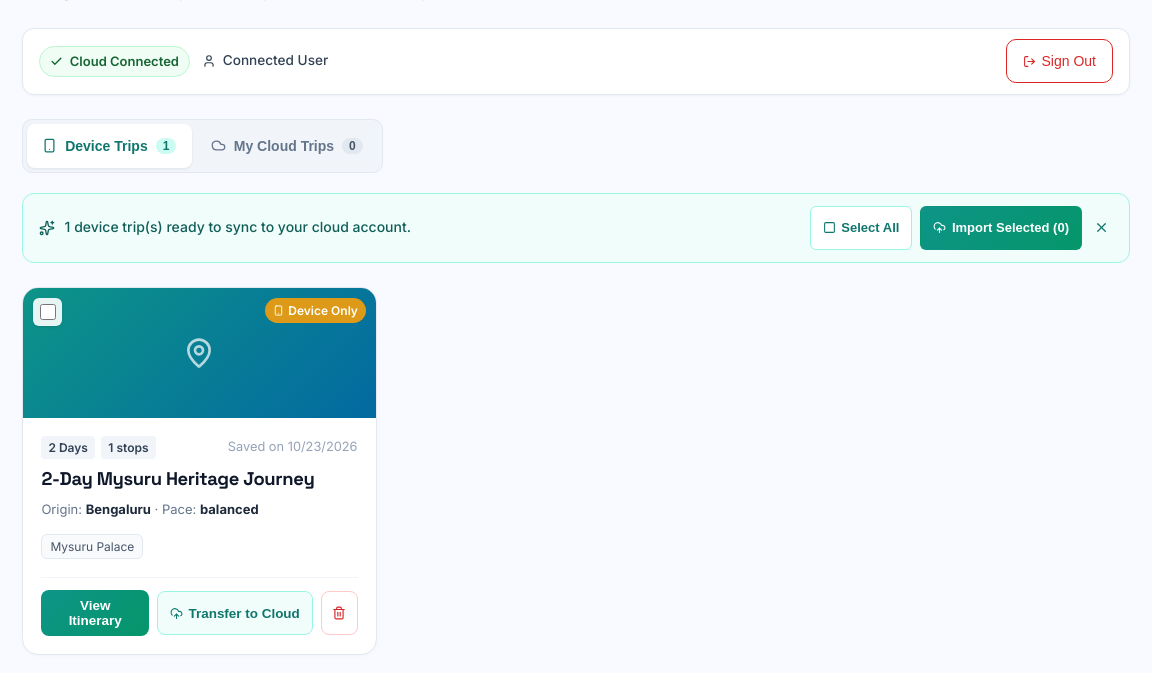
Test: SavedTripsView Component › transfers a single device trip to cloud when authenticated and preserves local copy
The image size is (1152, 673).
(page scrolled)
Click the button with test id "transfer-btn-local-trip-1" at (235, 613), box 157,591 -> 313,635
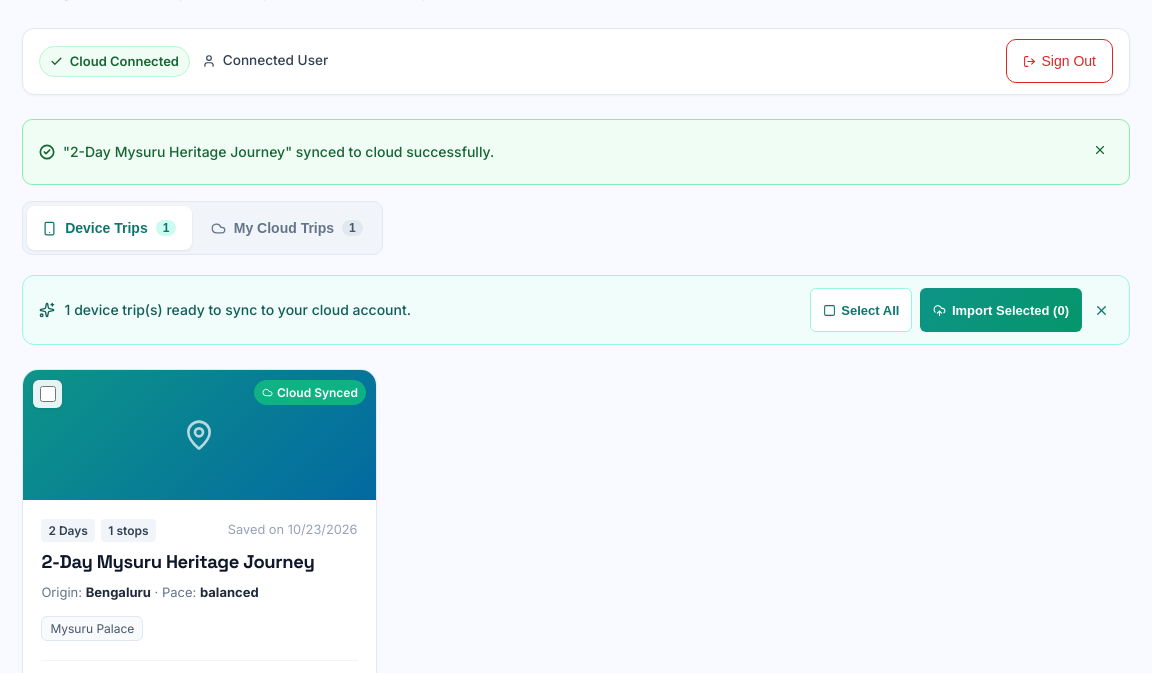
Expected: the heading "2-Day Mysuru Heritage Journey" is shown, 41,550 -> 358,575
Result: the text "\"2-Day Mysuru Heritage Journey\" synced to cloud successfully." is shown at 63,141 -> 494,163
